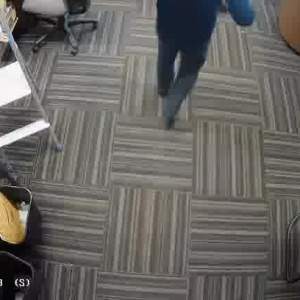person: (137, 0, 254, 124)
